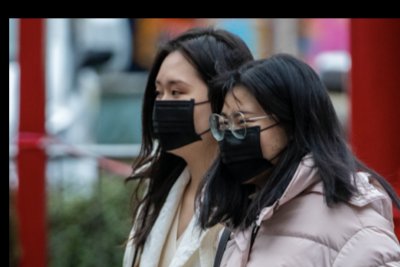with_mask: (218, 108, 287, 183), (153, 78, 211, 153)
